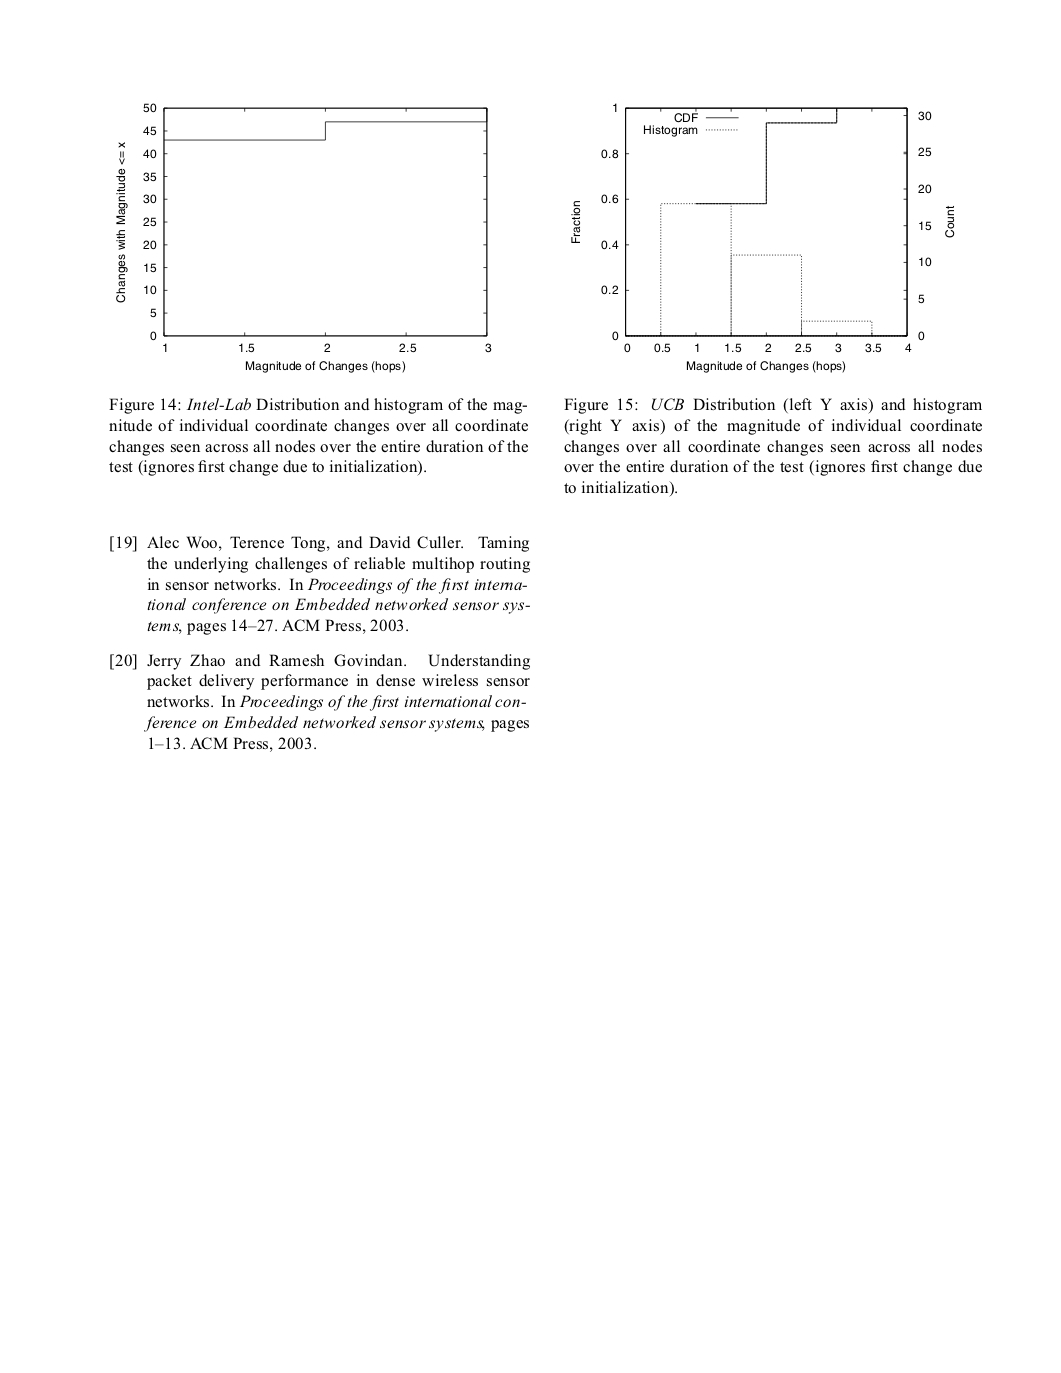figure: (571, 103, 954, 372), (116, 103, 491, 372)
